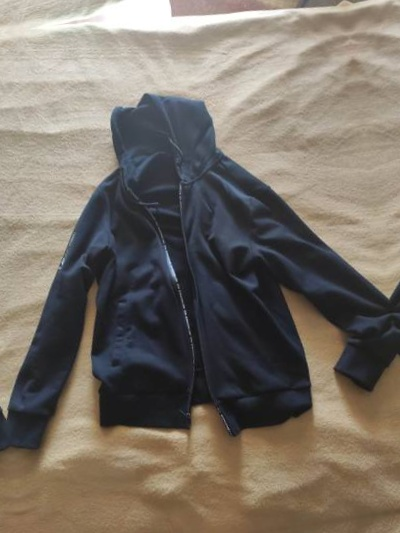Hoodie: (0, 57, 395, 474), (365, 0, 400, 414), (0, 114, 10, 532)
